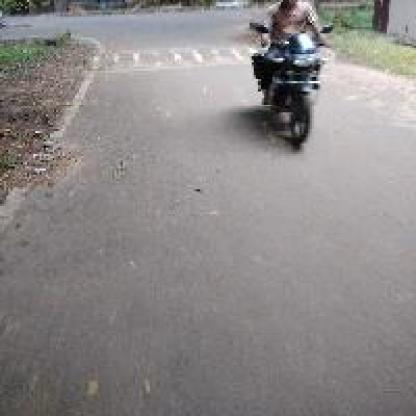Speed Bump: (85, 39, 245, 75)
